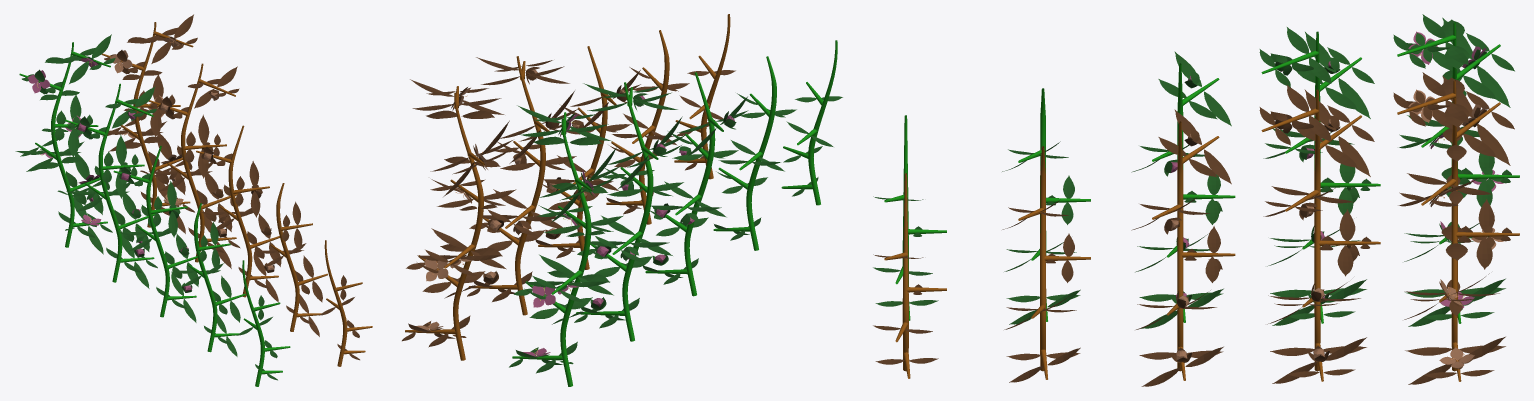
File: Cosmos.glb
3 renders of one model, left to right at view 1: azimuth 30°, elevation 25°; view 2: azimuth 150°, elevation 25°; view 3: azimuth 270°, elevation 25°, orthographic. The views are drawn at different scales.
Parts seen in each view (by area): view 1: CosmosRecoltable, CosmosRecoltableMorte, CosmosStade4, CosmosStade4Morte, CosmosStade3, CosmosStade3Morte, CosmosStade2Morte, CosmosStade2, CosmosStade1, CosmosStade1Morte; view 2: CosmosRecoltable, CosmosRecoltableMorte, CosmosStade4, CosmosStade4Morte, CosmosStade3, CosmosStade3Morte, CosmosStade2, CosmosStade2Morte, CosmosStade1, CosmosStade1Morte; view 3: CosmosRecoltableMorte, CosmosStade4Morte, CosmosRecoltable, CosmosStade4, CosmosStade3Morte, CosmosStade3, CosmosStade2Morte, CosmosStade2, CosmosStade1Morte, CosmosStade1.
Boxes of the visible parts, x1,y1,x2,y2 form: CosmosRecoltable: (15,34,115,254); CosmosRecoltableMorte: (101,14,197,233); CosmosStade4: (65,83,157,288); CosmosStade4Morte: (148,63,240,268); CosmosStade3: (113,145,198,322); CosmosStade3Morte: (196,125,281,302); CosmosStade2Morte: (255,183,327,336); CosmosStade2: (172,203,245,356); CosmosStade1: (236,260,290,386); CosmosStade1Morte: (319,240,372,366); CosmosRecoltable: (509,105,623,386); CosmosRecoltableMorte: (402,79,516,360); CosmosStade4: (574,82,685,341); CosmosStade4Morte: (467,56,578,315); CosmosStade3: (643,72,748,296); CosmosStade3Morte: (535,46,640,269); CosmosStade2: (713,56,796,250); CosmosStade2Morte: (606,30,689,224); CosmosStade1: (781,40,842,205); CosmosStade1Morte: (674,14,735,179); CosmosRecoltableMorte: (1393,72,1519,384); CosmosStade4Morte: (1259,85,1380,383); CosmosRecoltable: (1393,14,1519,326); CosmosStade4: (1259,27,1380,325); CosmosStade3Morte: (1131,109,1235,386); CosmosStade3: (1131,51,1235,328); CosmosStade2Morte: (1002,146,1090,382); CosmosStade2: (1002,88,1090,324); CosmosStade1Morte: (873,173,946,378); CosmosStade1: (873,115,946,320).
Size of the model in its own units: 2.03 by 2.38 by 4.72.
